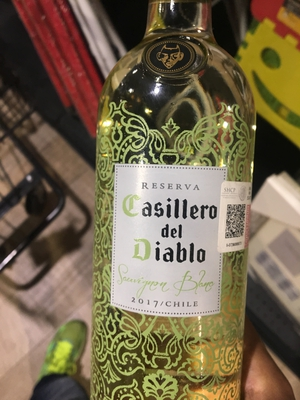casillero del diablo sauvignon blanc: (91, 12, 266, 400)
